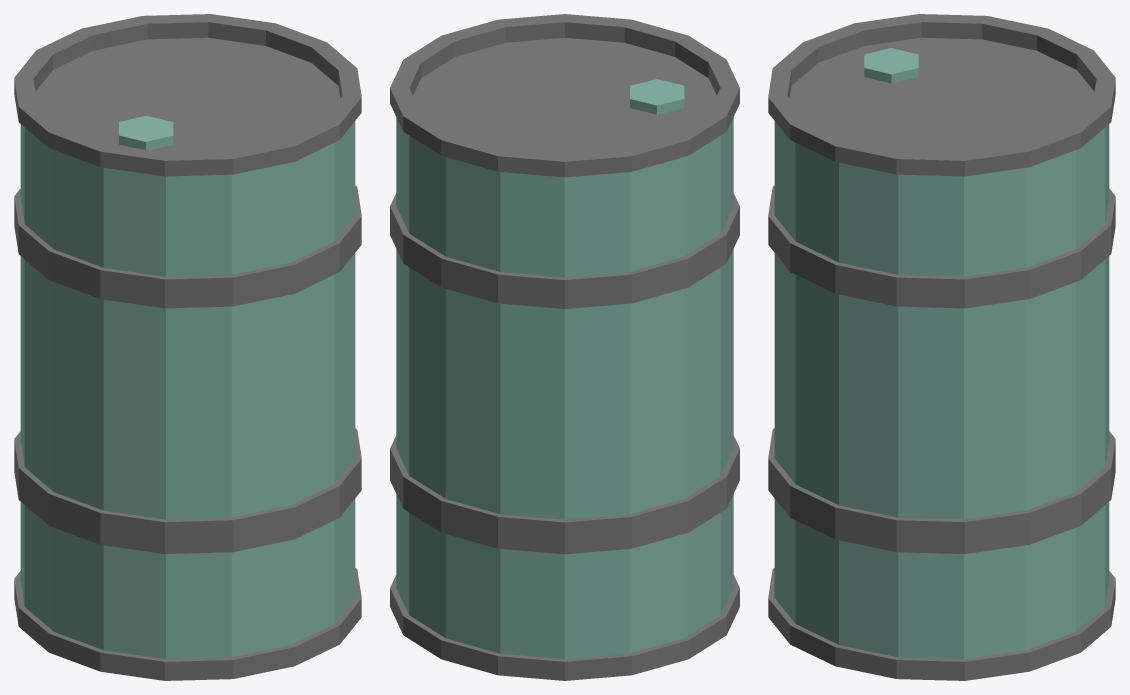
The model's file is fp_barrel.glb.
The picture shows the model from 3 angles, left to right: view 1: azimuth 30°, elevation 25°; view 2: azimuth 150°, elevation 25°; view 3: azimuth 270°, elevation 25°; orthographic projection.
Visible parts, largest first — view 1: barrel_a001; view 2: barrel_a001; view 3: barrel_a001.
Boxes of the visible parts, x1=… form: barrel_a001: x1=14, y1=14, x2=361, y2=680; barrel_a001: x1=390, y1=14, x2=739, y2=680; barrel_a001: x1=768, y1=14, x2=1115, y2=680.
Bounding box in the file's own units: 0.254 × 0.4193 × 0.254.
